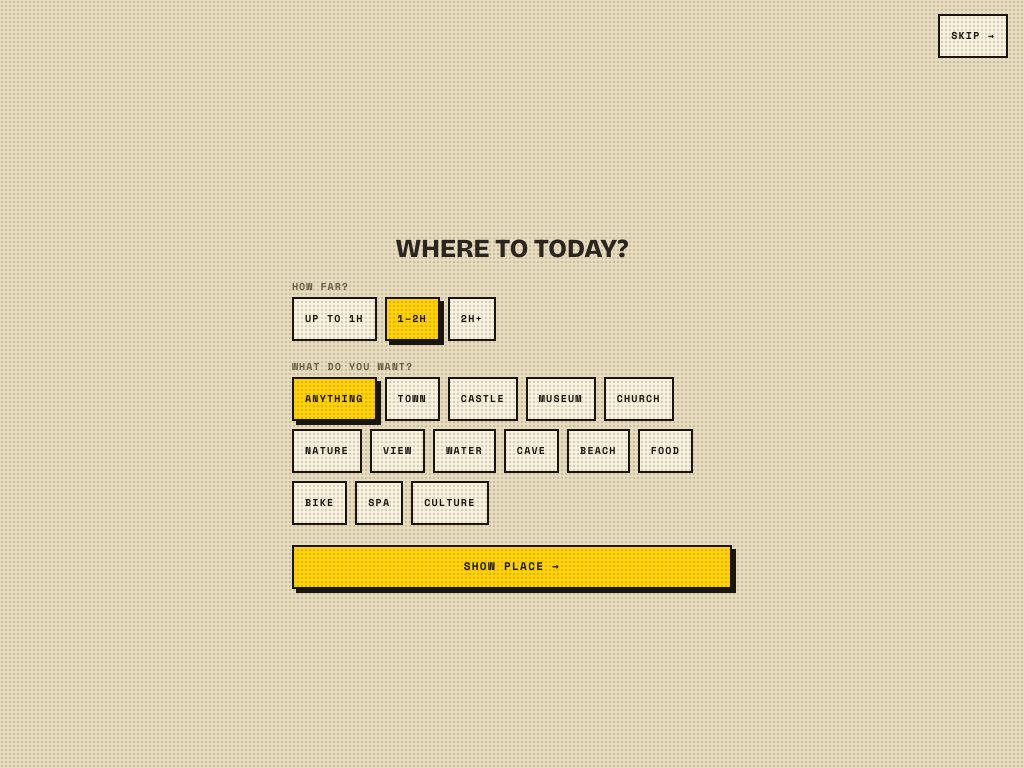
Test case: OnboardingScreen › respects the chosen distance bucket
Click the button "Up to 1h" at (334, 319), box [292,297,377,341]
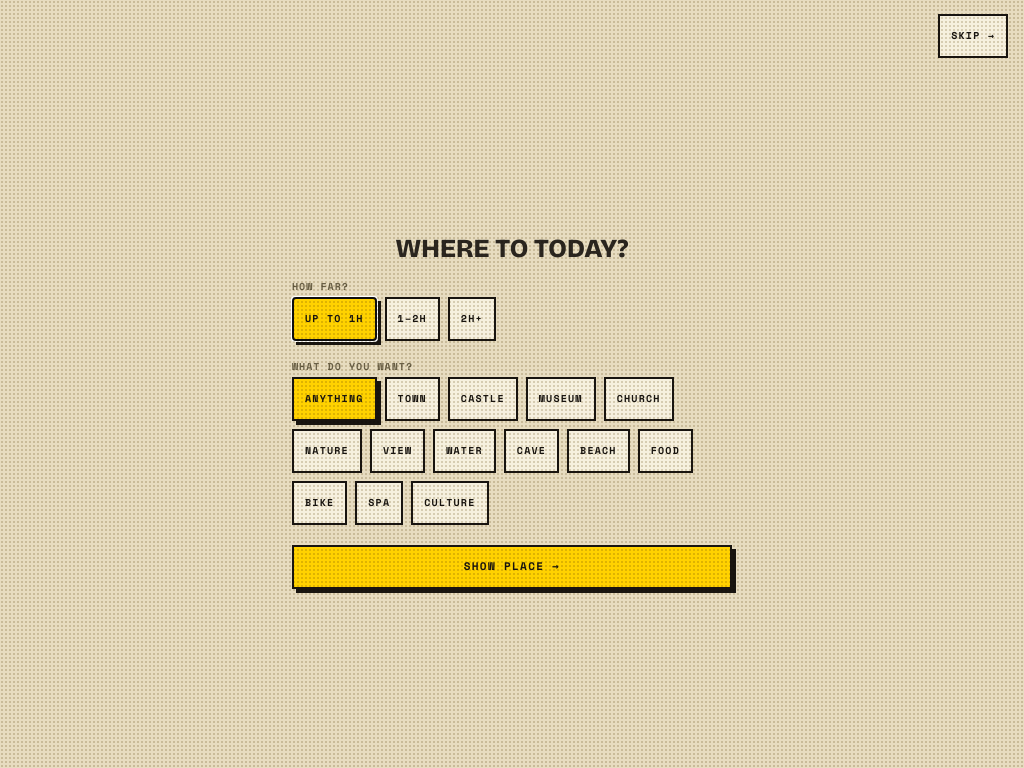
Click the button "castle" at (483, 399), box [448,377,518,421]
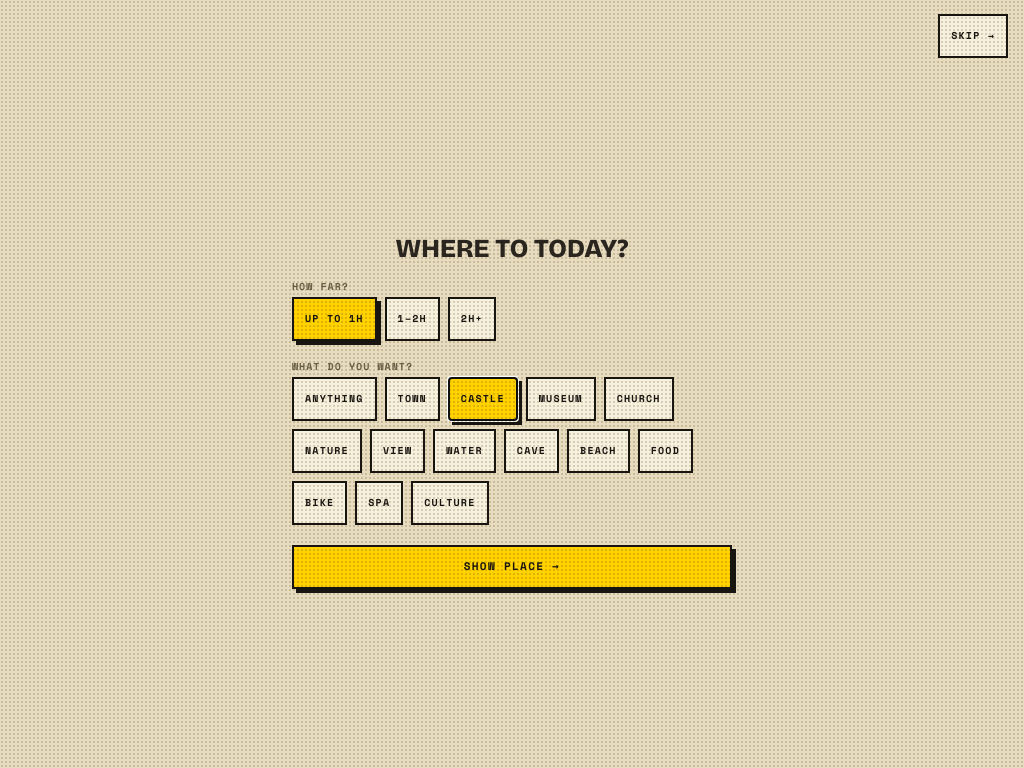
Click the button "Show place →" at (512, 567), box [292,545,732,589]
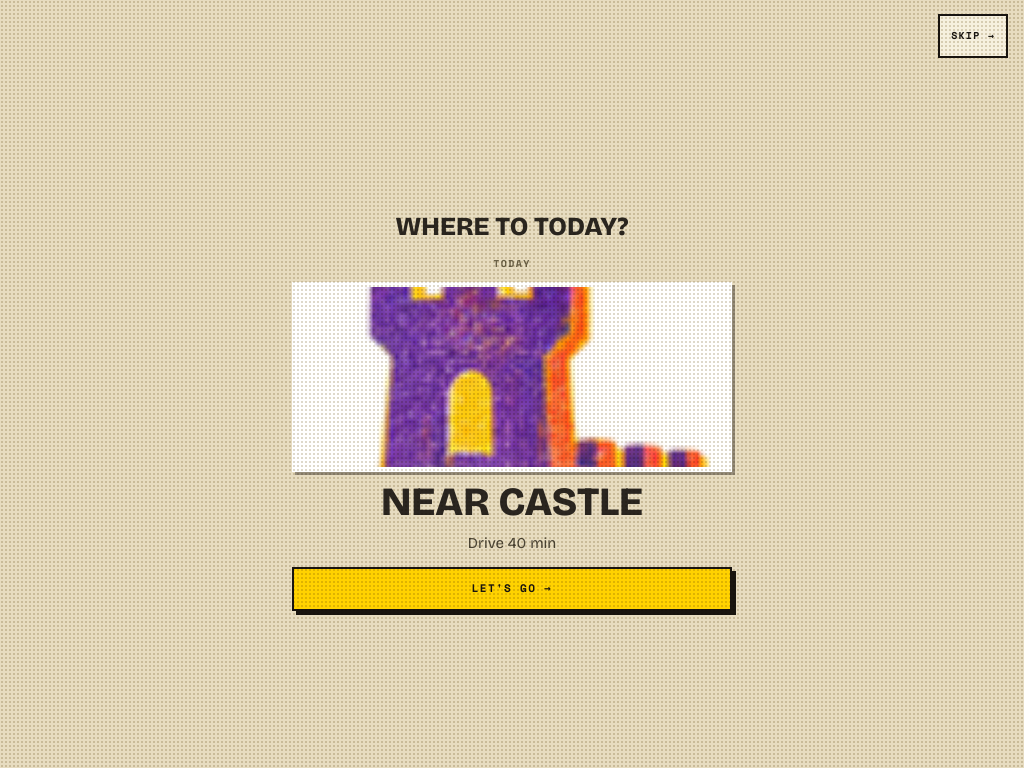
Check: the heading "Near Castle" is shown, box [381,484,643,520]
